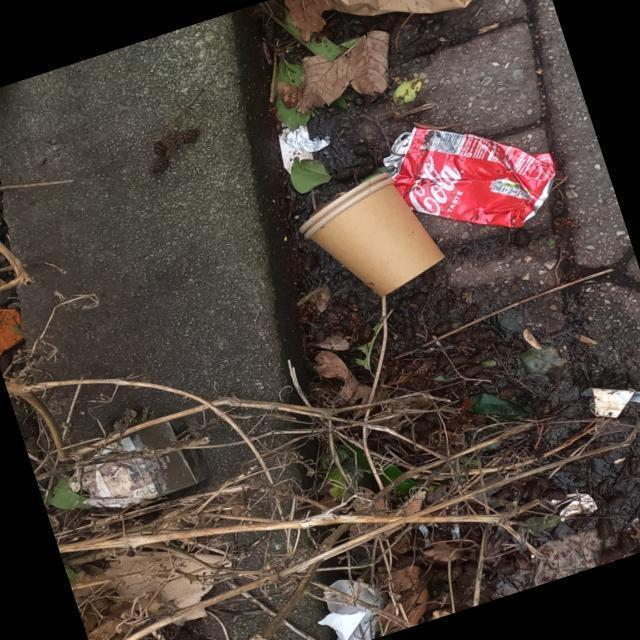Can-Metal: (381, 124, 558, 230)
Cup: (298, 168, 447, 300)
Paper: (70, 417, 214, 512)
